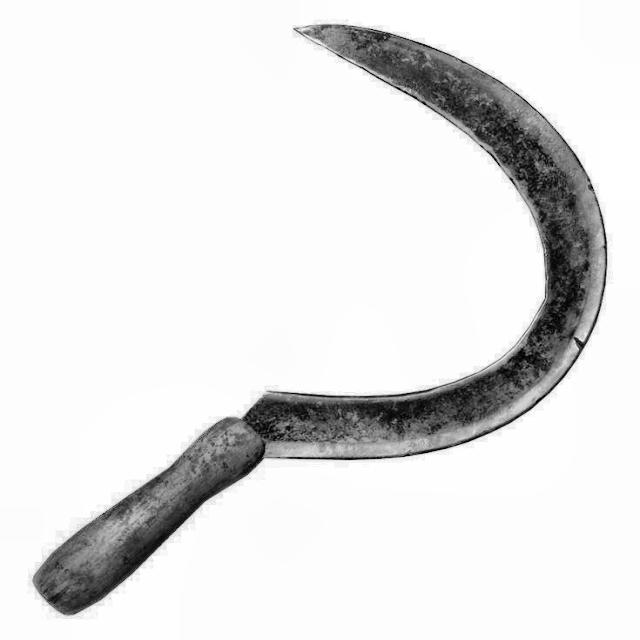celurit: (25, 25, 629, 627)
